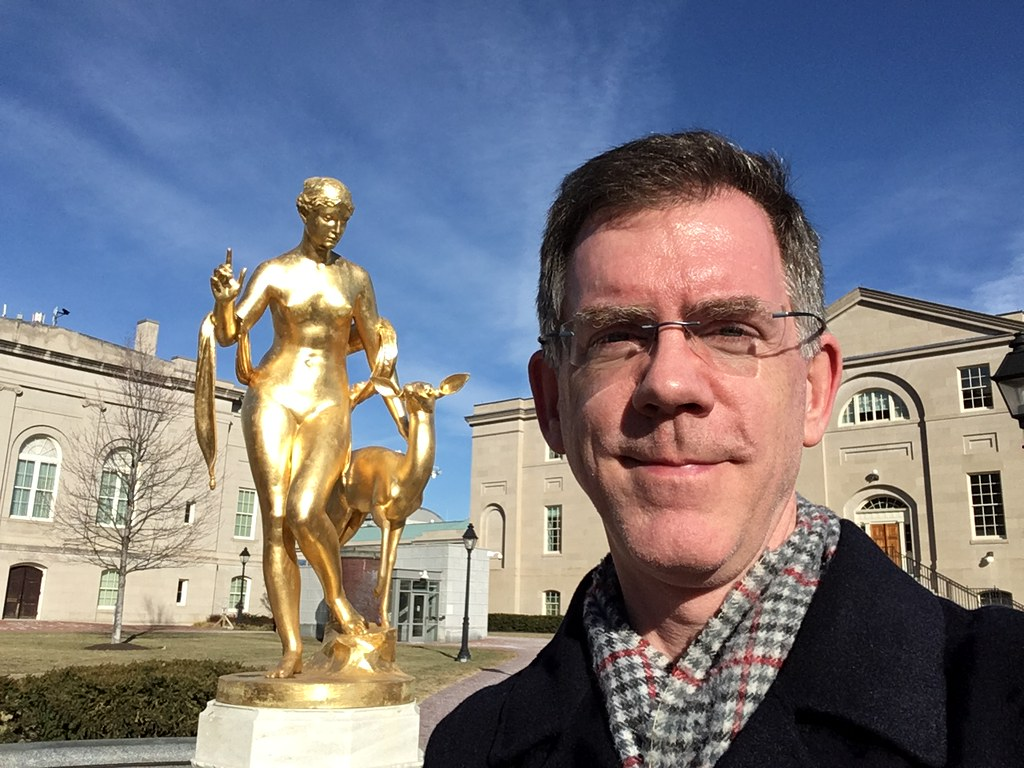person: (414, 119, 1024, 767)
person-like: (198, 170, 413, 687)
